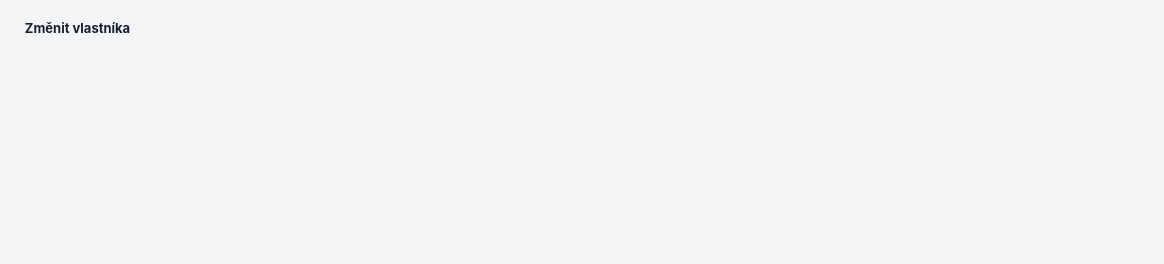
Test case: OwnerChange (komponenta) › zástupce, který se stává vlastníkem, se uvolní a vlastník v seznamu zástupců nejde vybrat
Click the button "Změnit vlastníka" at (77,28), box left=12, top=12, right=143, bottom=44
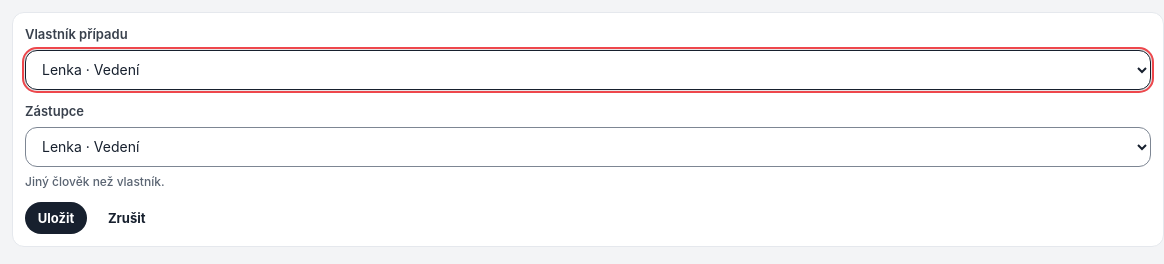
Select "Lenka · Vedení" in the dropdown named "owner_id" at (588,70), box left=25, top=50, right=1151, bottom=90
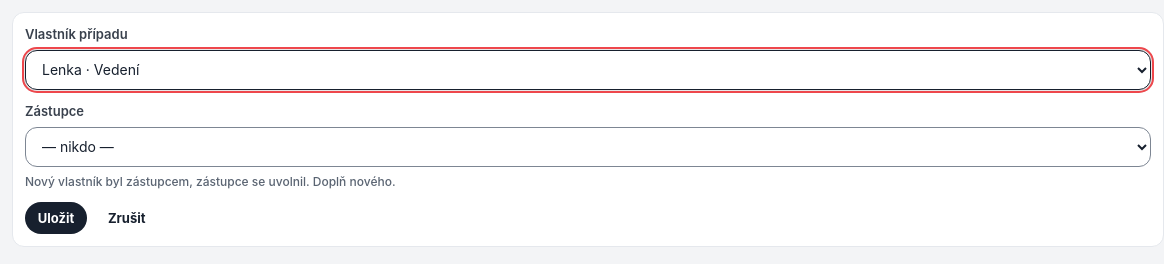
Now the dropdown named "deputy_id" shows "— nikdo —", box left=25, top=127, right=1151, bottom=167
Now the text "Nový vlastník byl zástupcem" is shown, box left=25, top=174, right=396, bottom=189
